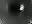person: (20, 5, 26, 15)
